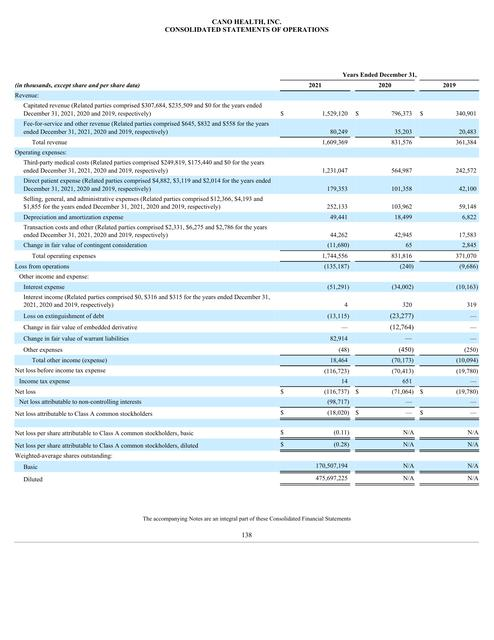box: (10, 70, 483, 491)
